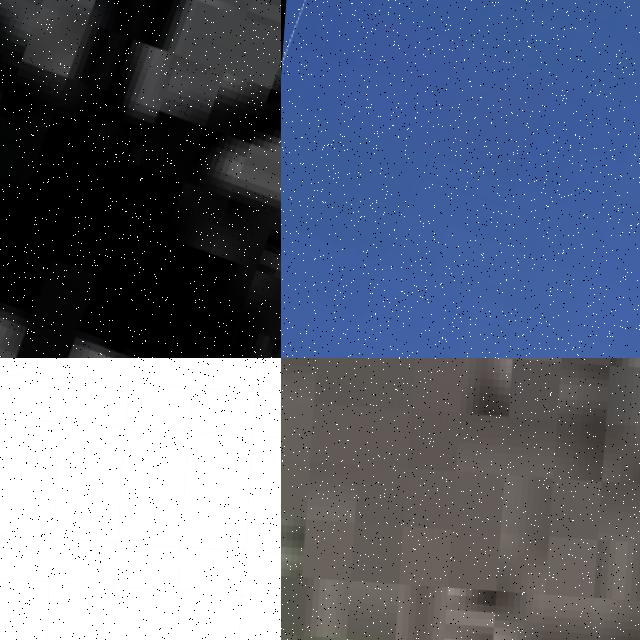drone: (281, 0, 640, 358), (0, 0, 281, 358)
